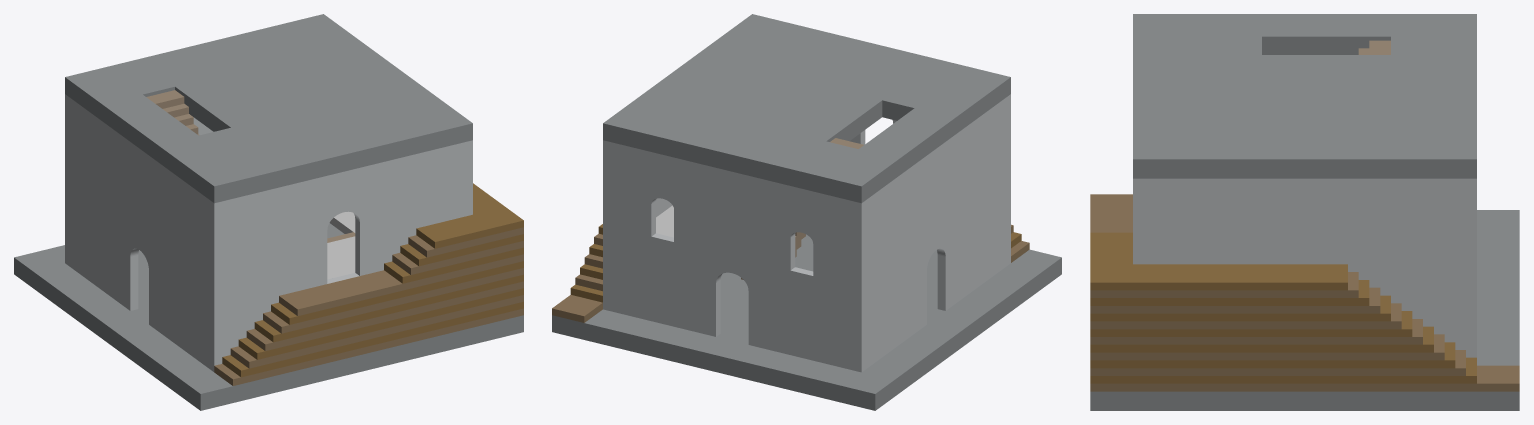
The model's file is BuildingLVL1.glb.
The picture shows the model from 3 angles, left to right: view 1: azimuth 30°, elevation 25°; view 2: azimuth 150°, elevation 25°; view 3: azimuth 270°, elevation 25°; orthographic projection. The views are drawn at different scales.
Visible parts, largest first — view 1: Mesh_Mesh_head_geo.001_lambert2SG.001; view 2: Mesh_Mesh_head_geo.001_lambert2SG.001; view 3: Mesh_Mesh_head_geo.001_lambert2SG.001.
Part boxes in pixels (box(x1,y1,x2,y2)): Mesh_Mesh_head_geo.001_lambert2SG.001: box(14, 14, 523, 410); Mesh_Mesh_head_geo.001_lambert2SG.001: box(552, 14, 1061, 410); Mesh_Mesh_head_geo.001_lambert2SG.001: box(1090, 14, 1519, 410).
Size of the model in its own units: 100 by 60 by 100.
